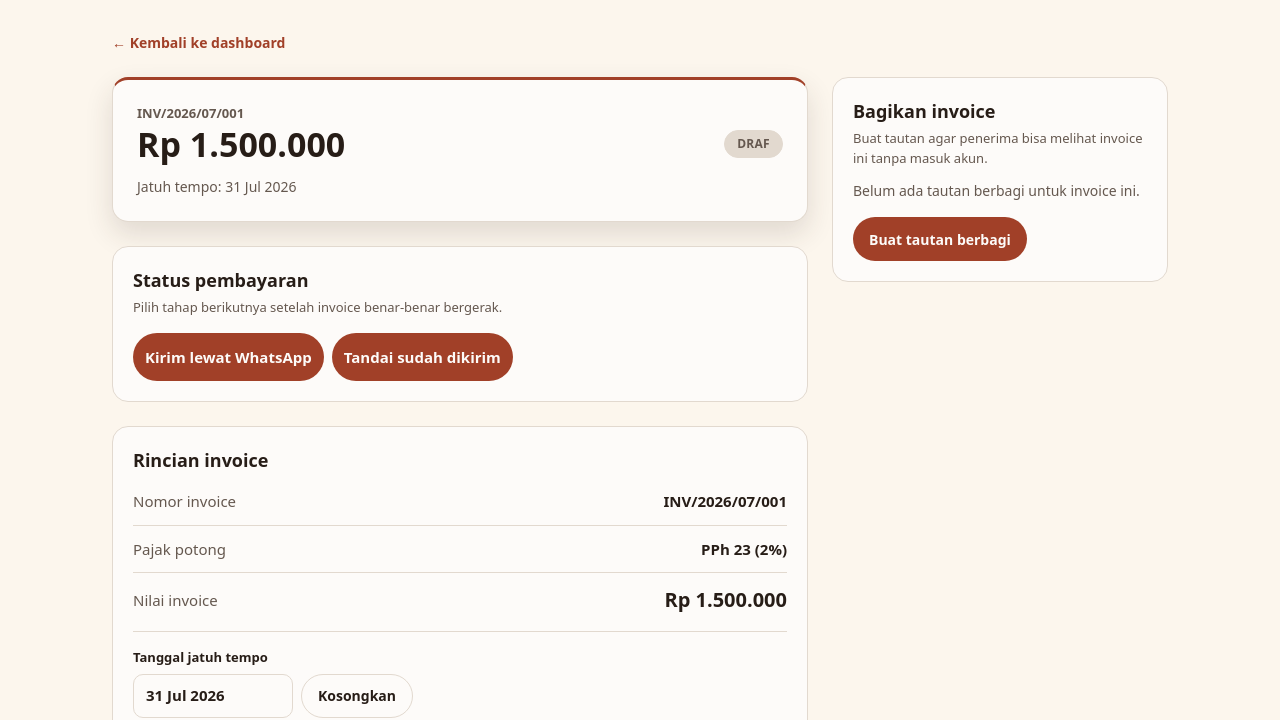
Scenario: InvoiceDetailClient › Bagikan invoice › shows a controlled Bahasa alert when the clipboard write is denied or unavailable
Click the button "Buat tautan berbagi".
click(940, 239)  # box [853,217,1027,261]
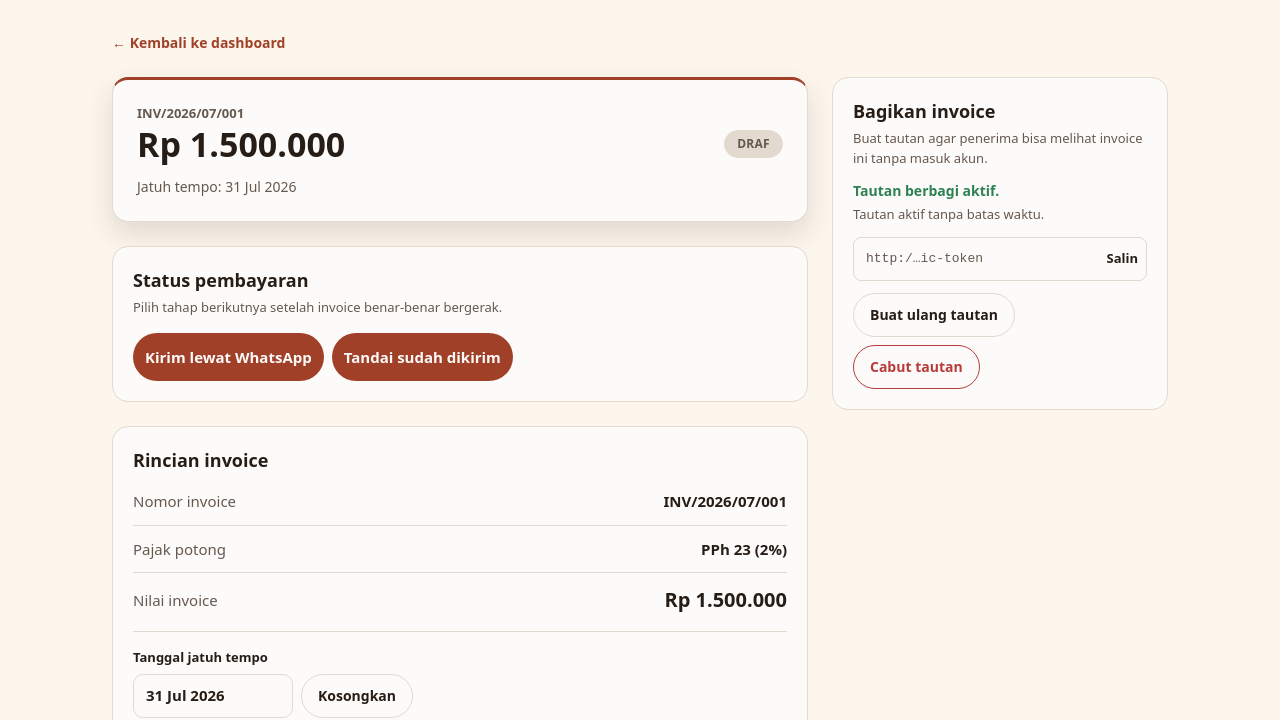
Click the button with aria-label "salin tautan".
click(1122, 258)  # box [1098,236,1146,280]
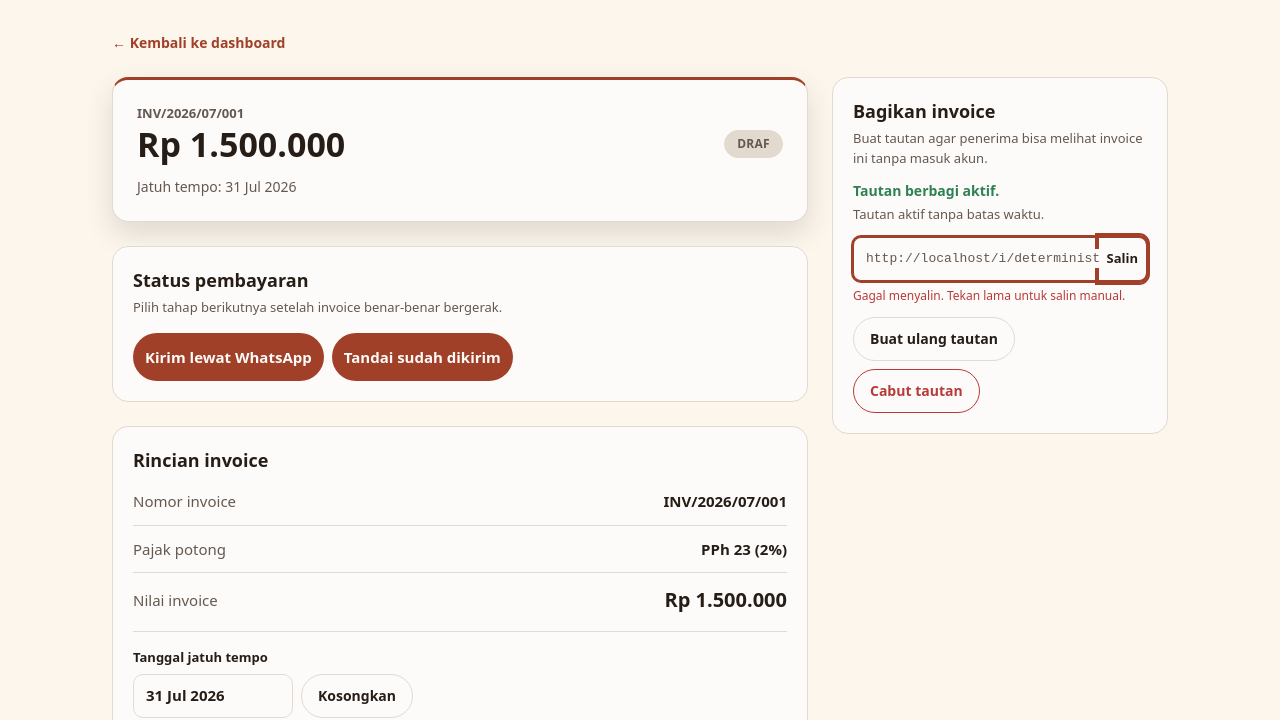
Expected: the message reads "Gagal menyalin. Tekan lama untuk salin manual.", [853,286,1125,304]
